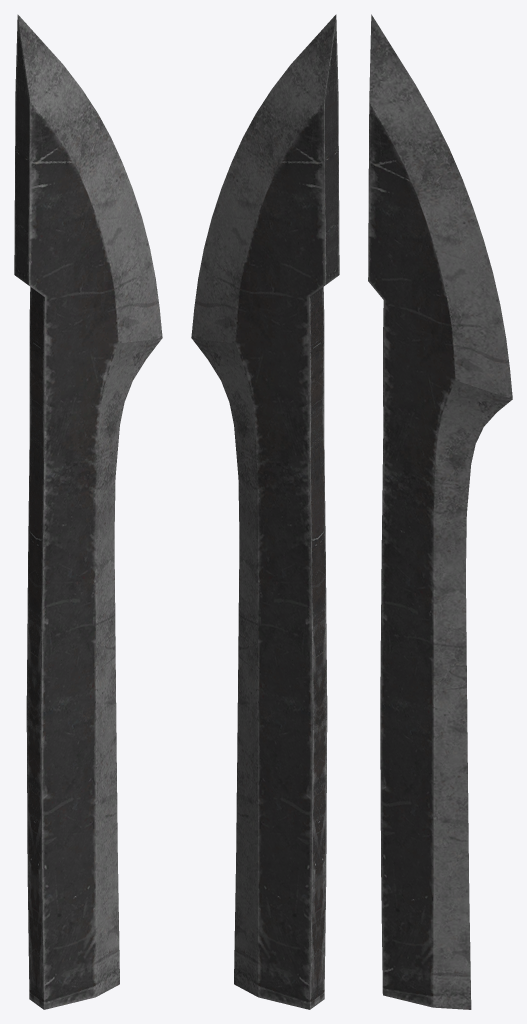
Rendered from sm_uruk_sword_blade_a3.fbx.
The picture shows the model from 3 angles, left to right: view 1: azimuth 30°, elevation 25°; view 2: azimuth 150°, elevation 25°; view 3: azimuth 330°, elevation 25°; orthographic projection. The views are drawn at different scales.
Visible parts, largest first — view 1: sm_uruk_sword_blade_a3; view 2: sm_uruk_sword_blade_a3; view 3: sm_uruk_sword_blade_a3.
Boxes of the visible parts, x1,y1,x2,y2 form: sm_uruk_sword_blade_a3: [14, 14, 162, 1009]; sm_uruk_sword_blade_a3: [191, 14, 339, 1009]; sm_uruk_sword_blade_a3: [368, 14, 512, 1009].
Bounding box in the file's own units: 0.1143 × 0.02 × 0.75.
Materials: 1 (1 with a texture image).
